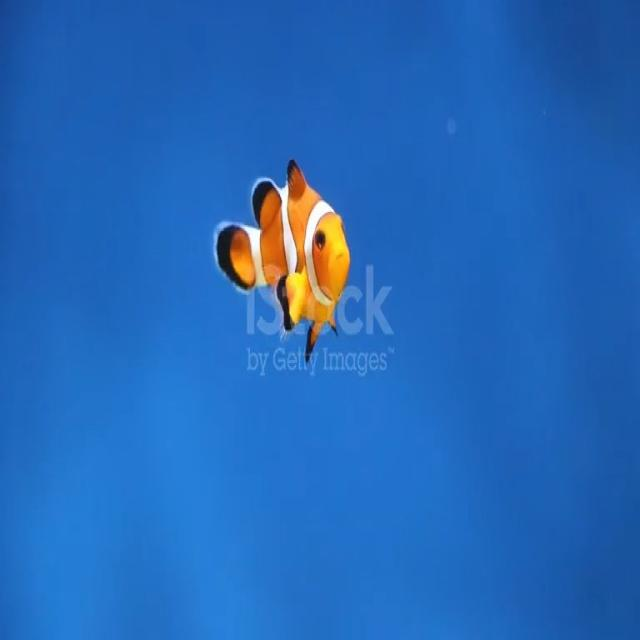fish: (210, 153, 352, 362)
